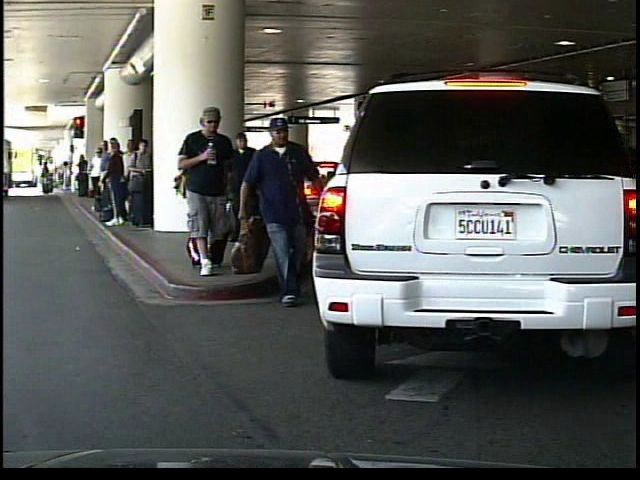person: (241, 103, 317, 303), (178, 105, 239, 277), (229, 136, 268, 244)
